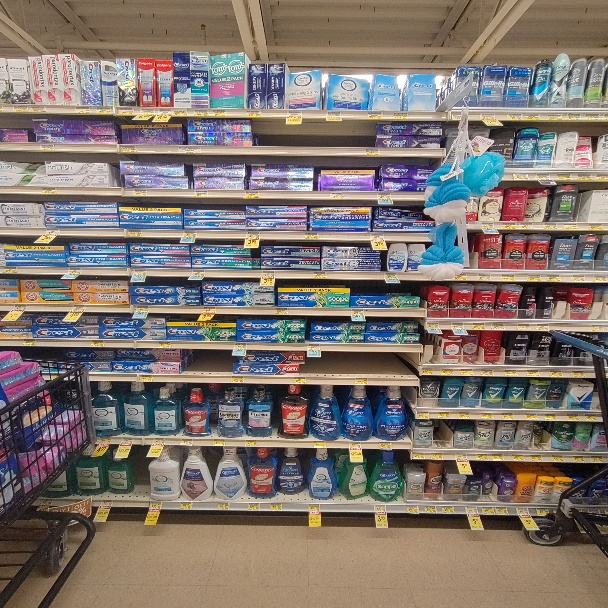All PRICE TAGS: (95, 106, 112, 115), (179, 145, 200, 152), (192, 108, 208, 117), (392, 112, 409, 120), (476, 273, 493, 281), (577, 173, 593, 181), (480, 112, 496, 120), (585, 113, 603, 120), (512, 173, 530, 180), (12, 105, 30, 112), (524, 412, 539, 420), (590, 324, 605, 332), (42, 187, 57, 195), (45, 228, 60, 236), (68, 267, 83, 275), (12, 303, 27, 311), (246, 231, 261, 239), (517, 323, 532, 331), (502, 221, 517, 229), (557, 173, 572, 181), (507, 112, 522, 120), (287, 110, 302, 118), (118, 107, 135, 114), (210, 109, 227, 116), (363, 148, 380, 155), (131, 305, 148, 312), (437, 411, 451, 419), (412, 452, 426, 460), (465, 506, 479, 514), (495, 507, 509, 515), (584, 414, 598, 422), (39, 144, 55, 151), (2, 266, 18, 273), (72, 304, 86, 312), (96, 437, 112, 444), (246, 109, 262, 116), (326, 110, 342, 117), (120, 145, 136, 152), (132, 189, 148, 196), (193, 190, 209, 197), (244, 191, 260, 198), (312, 272, 328, 279), (201, 307, 217, 314), (178, 501, 192, 509), (247, 502, 261, 510), (525, 113, 541, 120), (75, 107, 91, 114), (549, 370, 564, 377), (22, 339, 37, 346), (292, 377, 307, 384), (330, 192, 345, 199), (140, 107, 155, 114), (261, 271, 276, 278), (307, 344, 322, 351), (501, 274, 516, 281), (536, 173, 551, 180), (492, 453, 505, 461), (406, 506, 419, 514), (216, 502, 229, 510), (421, 367, 434, 375), (481, 369, 495, 376), (504, 370, 518, 377), (526, 370, 540, 377), (570, 371, 584, 378), (501, 412, 515, 419), (511, 454, 525, 461), (571, 455, 585, 462), (441, 506, 455, 513), (536, 509, 550, 516), (591, 456, 605, 463), (592, 275, 606, 282), (158, 341, 172, 348), (377, 193, 391, 200), (304, 232, 318, 239), (370, 233, 384, 240), (385, 273, 399, 280), (269, 503, 283, 510), (472, 323, 486, 330), (571, 275, 585, 282), (527, 274, 541, 281), (564, 223, 578, 230), (481, 222, 495, 229), (543, 413, 559, 419), (369, 112, 385, 118), (126, 230, 142, 236), (131, 269, 147, 275), (137, 375, 153, 381), (374, 504, 386, 512), (546, 275, 562, 281), (567, 113, 579, 121), (547, 114, 563, 120), (461, 369, 474, 376), (417, 412, 430, 419), (458, 412, 471, 419), (430, 453, 443, 460), (552, 455, 565, 462), (424, 506, 437, 513), (517, 508, 530, 515), (91, 340, 104, 347), (441, 368, 454, 375), (536, 323, 549, 330), (565, 414, 580, 420), (158, 108, 173, 114), (351, 310, 366, 316), (151, 437, 166, 443), (211, 439, 226, 445), (543, 223, 558, 229), (480, 413, 494, 419), (475, 454, 489, 460), (589, 224, 603, 230), (182, 231, 196, 237), (190, 270, 204, 276), (234, 343, 248, 349), (179, 438, 193, 444), (348, 441, 362, 447), (378, 441, 392, 447), (308, 504, 320, 511), (426, 322, 440, 328), (492, 324, 506, 330), (519, 223, 533, 229), (32, 106, 46, 112), (452, 111, 461, 120), (30, 106, 46, 111), (530, 455, 543, 461), (100, 500, 113, 506), (275, 308, 288, 314), (356, 378, 369, 384), (314, 441, 327, 447), (451, 323, 464, 329), (232, 377, 243, 384), (174, 111, 189, 116), (243, 440, 258, 445), (455, 453, 467, 459), (482, 508, 494, 514), (121, 438, 133, 444), (150, 501, 162, 507), (596, 174, 607, 180), (454, 275, 467, 280)
